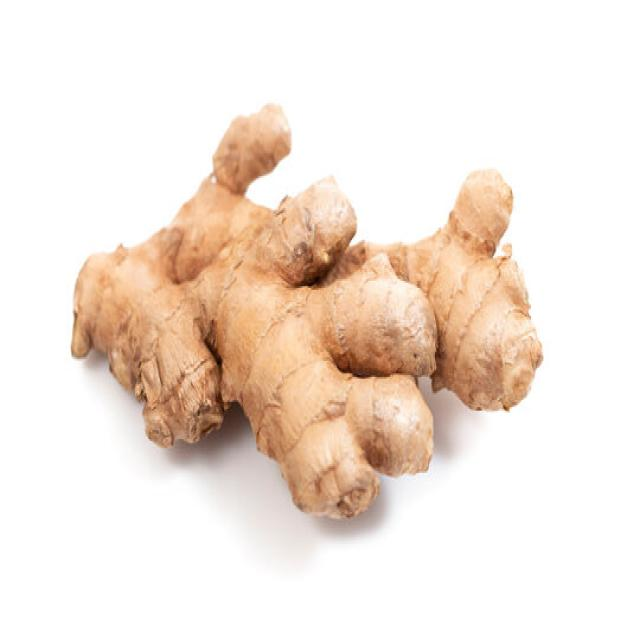Ginger: (74, 96, 547, 518)
